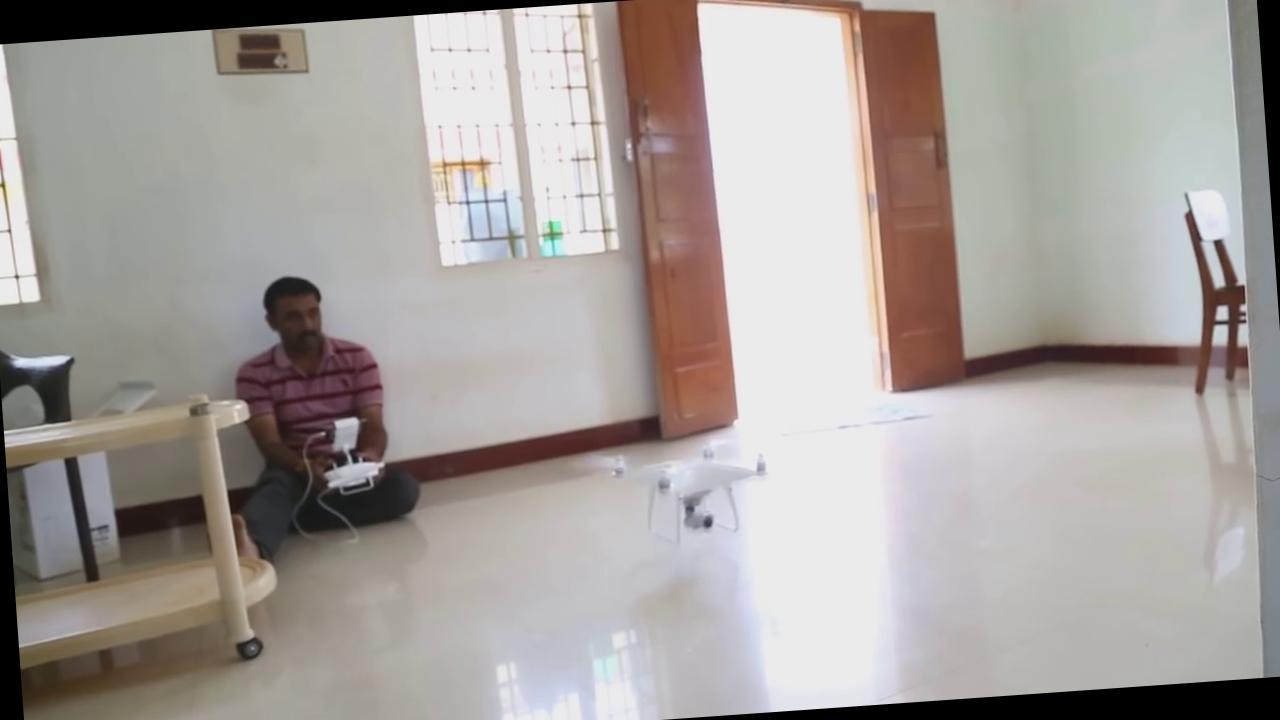drone: (576, 422, 792, 566)
